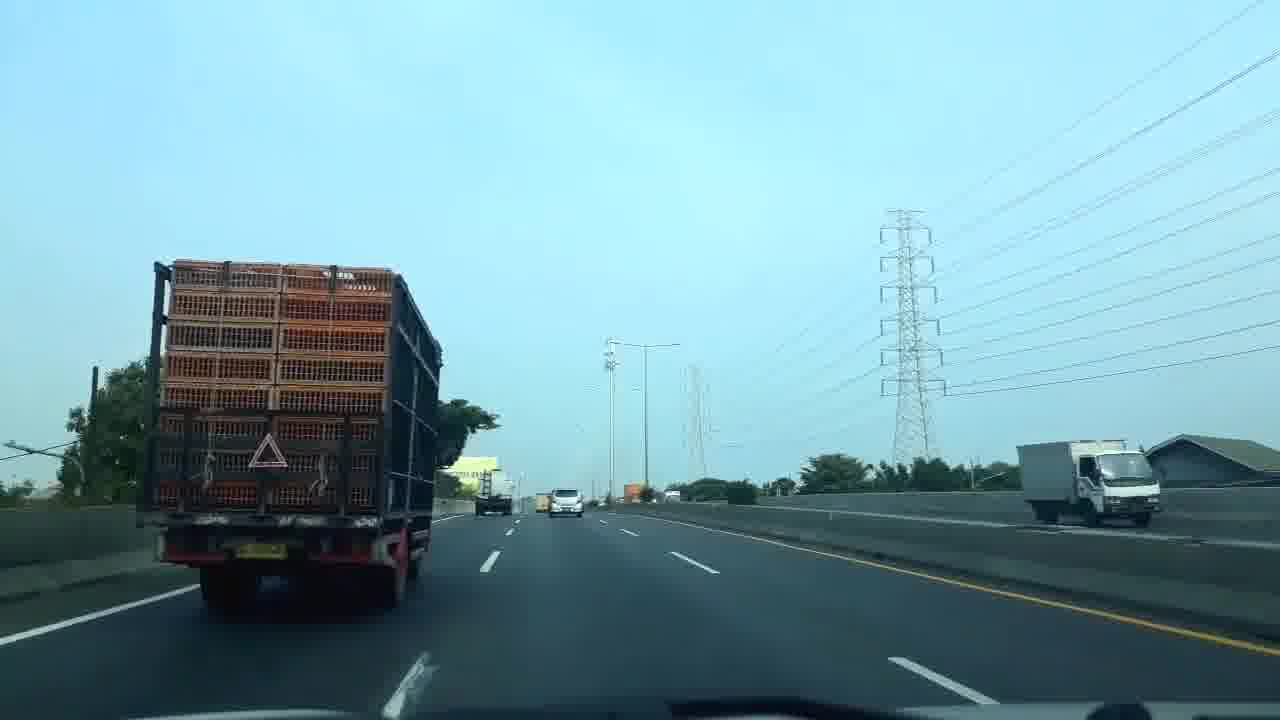plate_positive: (234, 544, 288, 560), (562, 508, 571, 512)
